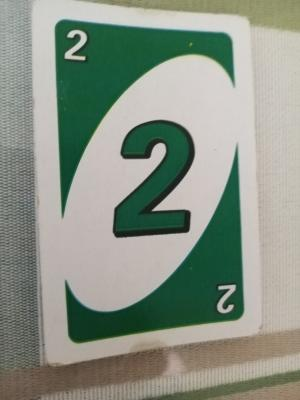green: (52, 18, 250, 329)
num_2: (59, 23, 92, 65), (212, 280, 242, 318)
